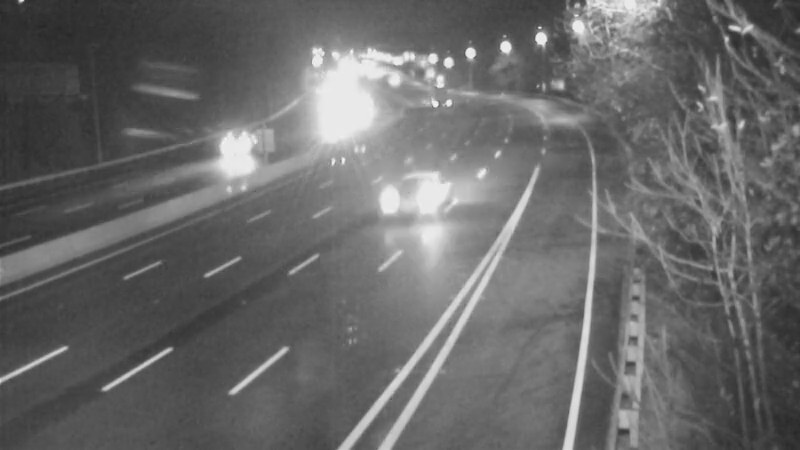vehicle: (390, 146, 470, 226), (408, 68, 458, 118), (204, 122, 254, 172), (307, 106, 357, 156)
